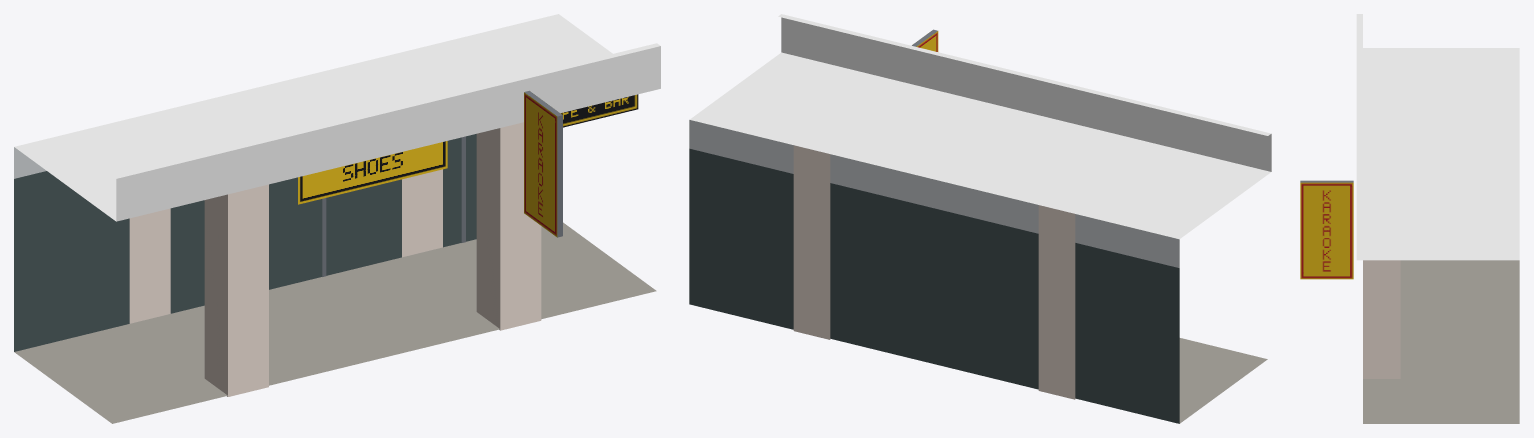
3 renders of one model, left to right at view 1: azimuth 30°, elevation 25°; view 2: azimuth 150°, elevation 25°; view 3: azimuth 270°, elevation 25°, orthographic. The views are drawn at different scales.
Parts seen in each view (by area): view 1: a2011/300/base-w3; view 2: a2011/300/base-w3; view 3: a2011/300/base-w3.
Boxes of the visible parts, x1,y1,x2,y2 form: a2011/300/base-w3: (14, 14, 660, 423); a2011/300/base-w3: (689, 14, 1271, 423); a2011/300/base-w3: (1300, 14, 1519, 423).
Bounding box in the file's own units: 8 × 3.5 × 3.5.
